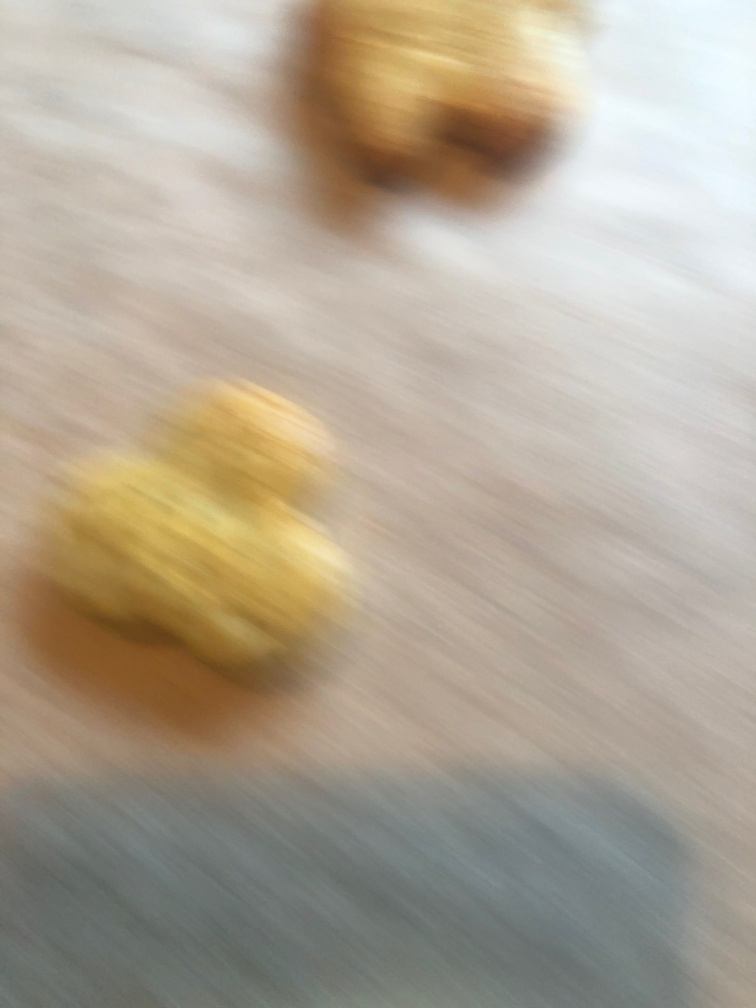flake: (30, 377, 360, 691)
